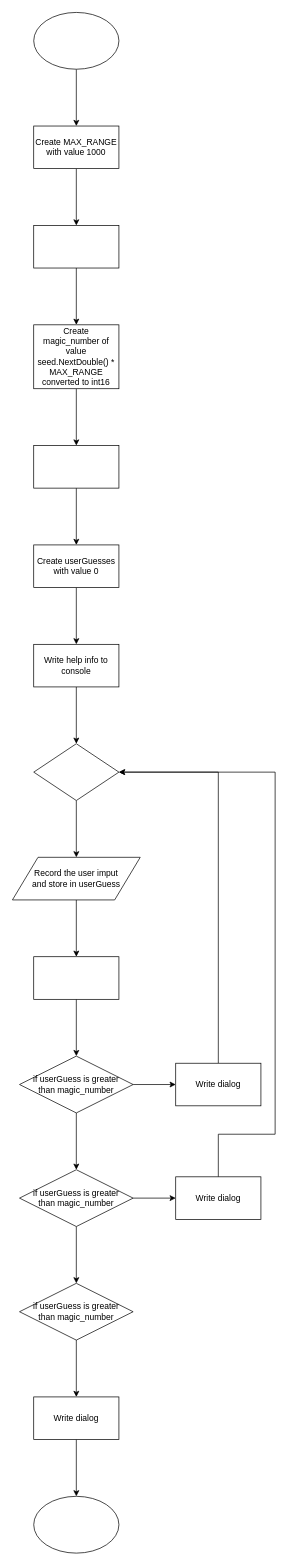
Some shapes in this 293 by 1566 pixel diagram are drawn without their labels. The shapes that lost their labels are listed below. From the top down, each one's box as (x1, y1, x2, y2) in pixels, then its label:
(33, 12, 119, 69): Call Main()
(33, 225, 119, 268): Create "seed" of type Random and value new Random()
(33, 445, 119, 488): Create userGuess with value 0
(33, 743, 119, 801): While true
(33, 956, 119, 999): Increase the value of userGuess by one
(33, 1496, 119, 1553): Stop
